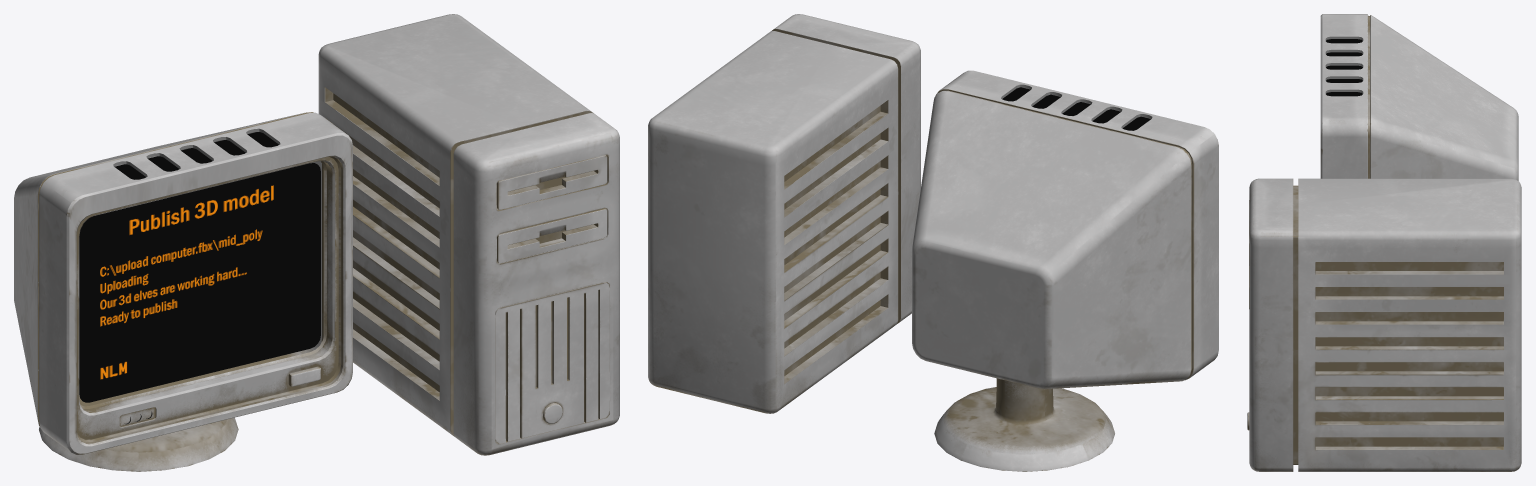
Rendered from computer2.glb.
The picture shows the model from 3 angles, left to right: view 1: azimuth 30°, elevation 25°; view 2: azimuth 150°, elevation 25°; view 3: azimuth 270°, elevation 25°; orthographic projection. The views are drawn at different scales.
Visible parts, largest first — view 1: Cube.003, Cube, Cube.002, Cube.007, Circle, Cube.005, Cube.006; view 2: Cube.003, Cube, Circle; view 3: Cube.003, Cube.
Boxes of the visible parts, x1,y1,x2,y2 form: Cube.003: [318, 14, 619, 455]; Cube: [14, 112, 352, 454]; Cube.002: [79, 163, 320, 402]; Cube.007: [495, 282, 609, 443]; Circle: [39, 417, 238, 471]; Cube.005: [497, 208, 607, 263]; Cube.006: [497, 155, 607, 209]; Cube.003: [648, 14, 920, 413]; Cube: [912, 70, 1218, 389]; Circle: [934, 378, 1114, 471]; Cube.003: [1249, 178, 1521, 471]; Cube: [1320, 14, 1518, 180].
Bounding box in the file's own units: 3.58 × 2.14 × 2.03.
7 materials, 4 textured.
